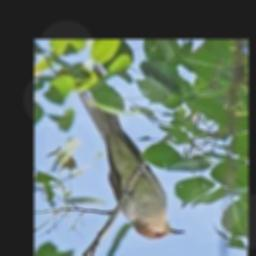Cuckoo: (77, 66, 186, 240)
